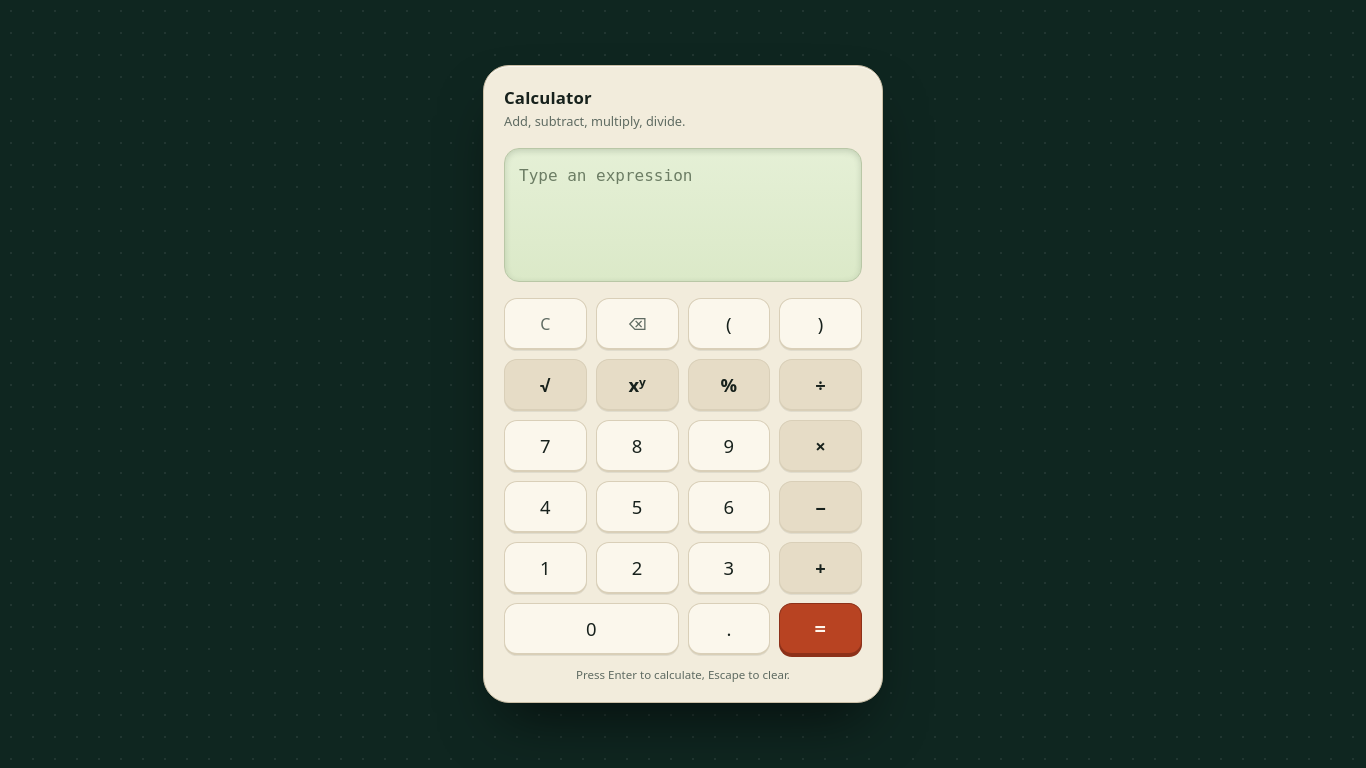
it: Calculator › evaluates an expression with a single request
Type "2+3" into the field labelled "expression". click: (683,176)
box: [519, 163, 847, 189]
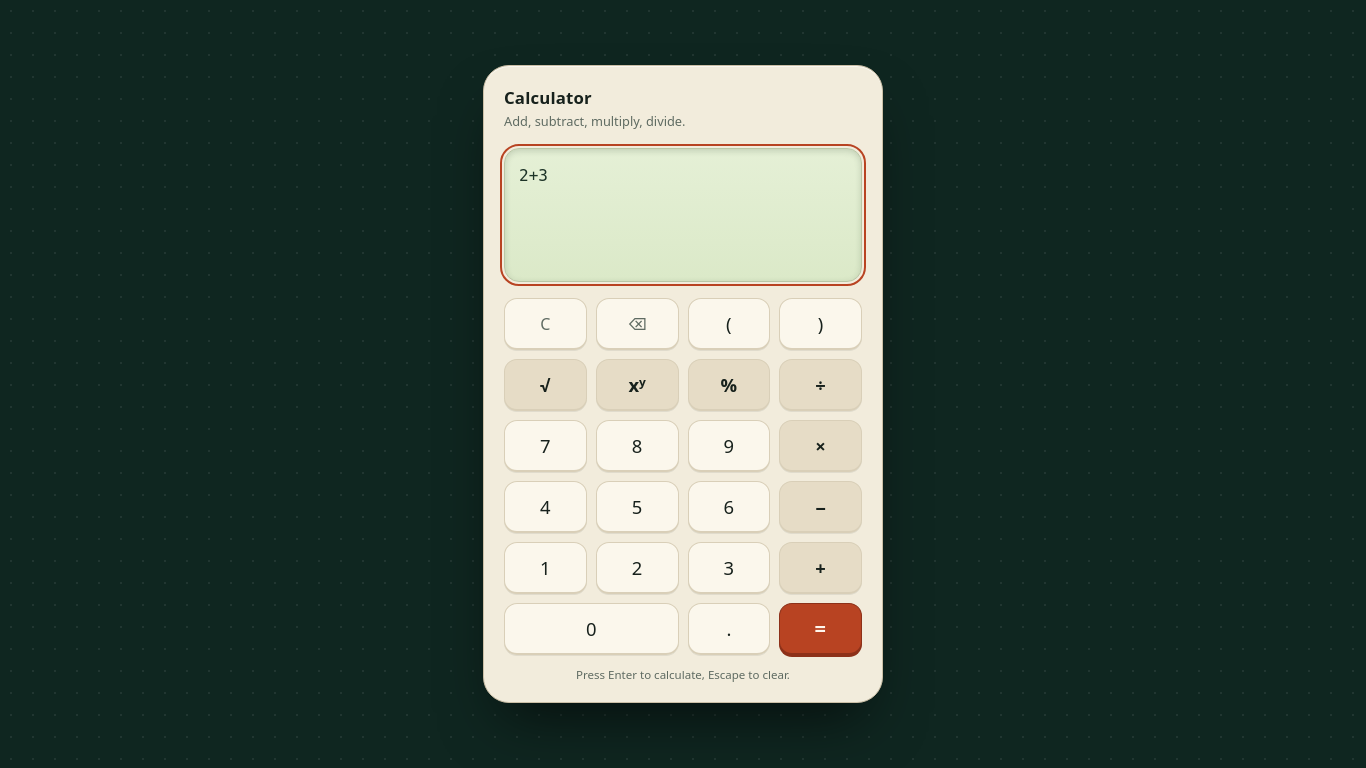
Click the button named "Equals". click: (821,629)
box: [779, 603, 862, 655]
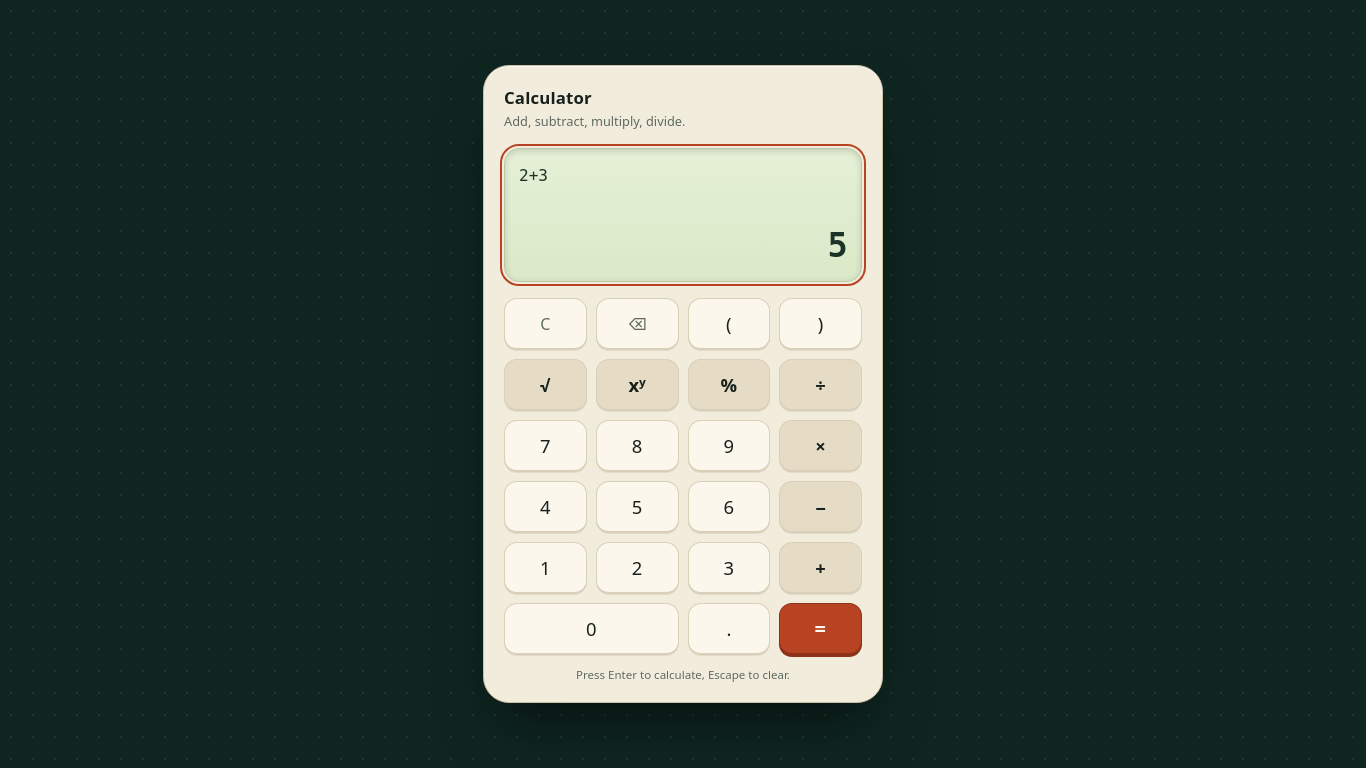
Result: the message named "Result" reads "5" at [828, 226, 847, 265]
